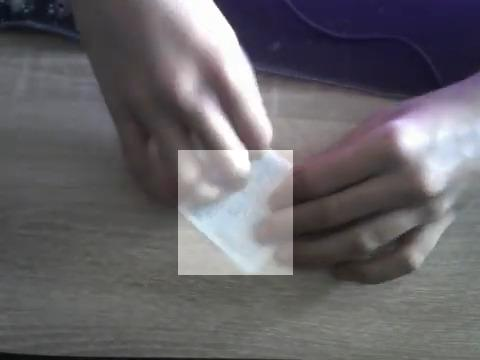20leva: (178, 150, 293, 275)
